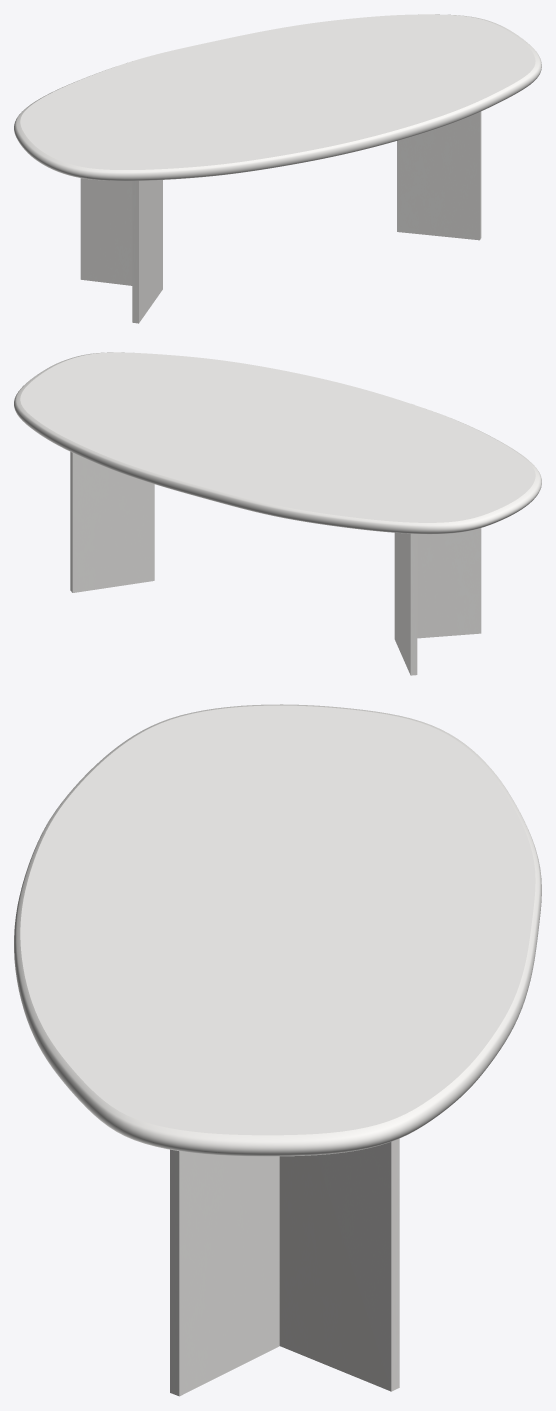
Rendered from purewhite_danish_round_valleyv.glb.
3 views of the same model, one above another, from view 1: azimuth 30°, elevation 25°; view 2: azimuth 150°, elevation 25°; view 3: azimuth 270°, elevation 25° (orthographic). The views are drawn at different scales.
Parts seen in each view (by area): view 1: round_danish, valleyv; view 2: round_danish, valleyv; view 3: round_danish, valleyv.
Boxes of the visible parts, x1=… form: round_danish: x1=14, y1=14, x2=541, y2=180; valleyv: x1=80, y1=111, x2=481, y2=323; round_danish: x1=14, y1=352, x2=541, y2=534; valleyv: x1=70, y1=452, x2=481, y2=675; round_danish: x1=14, y1=704, x2=541, y2=1156; valleyv: x1=170, y1=1138, x2=399, y2=1396.
Size of the model in its own units: 7.5 by 2.5 by 3.8.
Materials: 1 (1 with a texture image).
